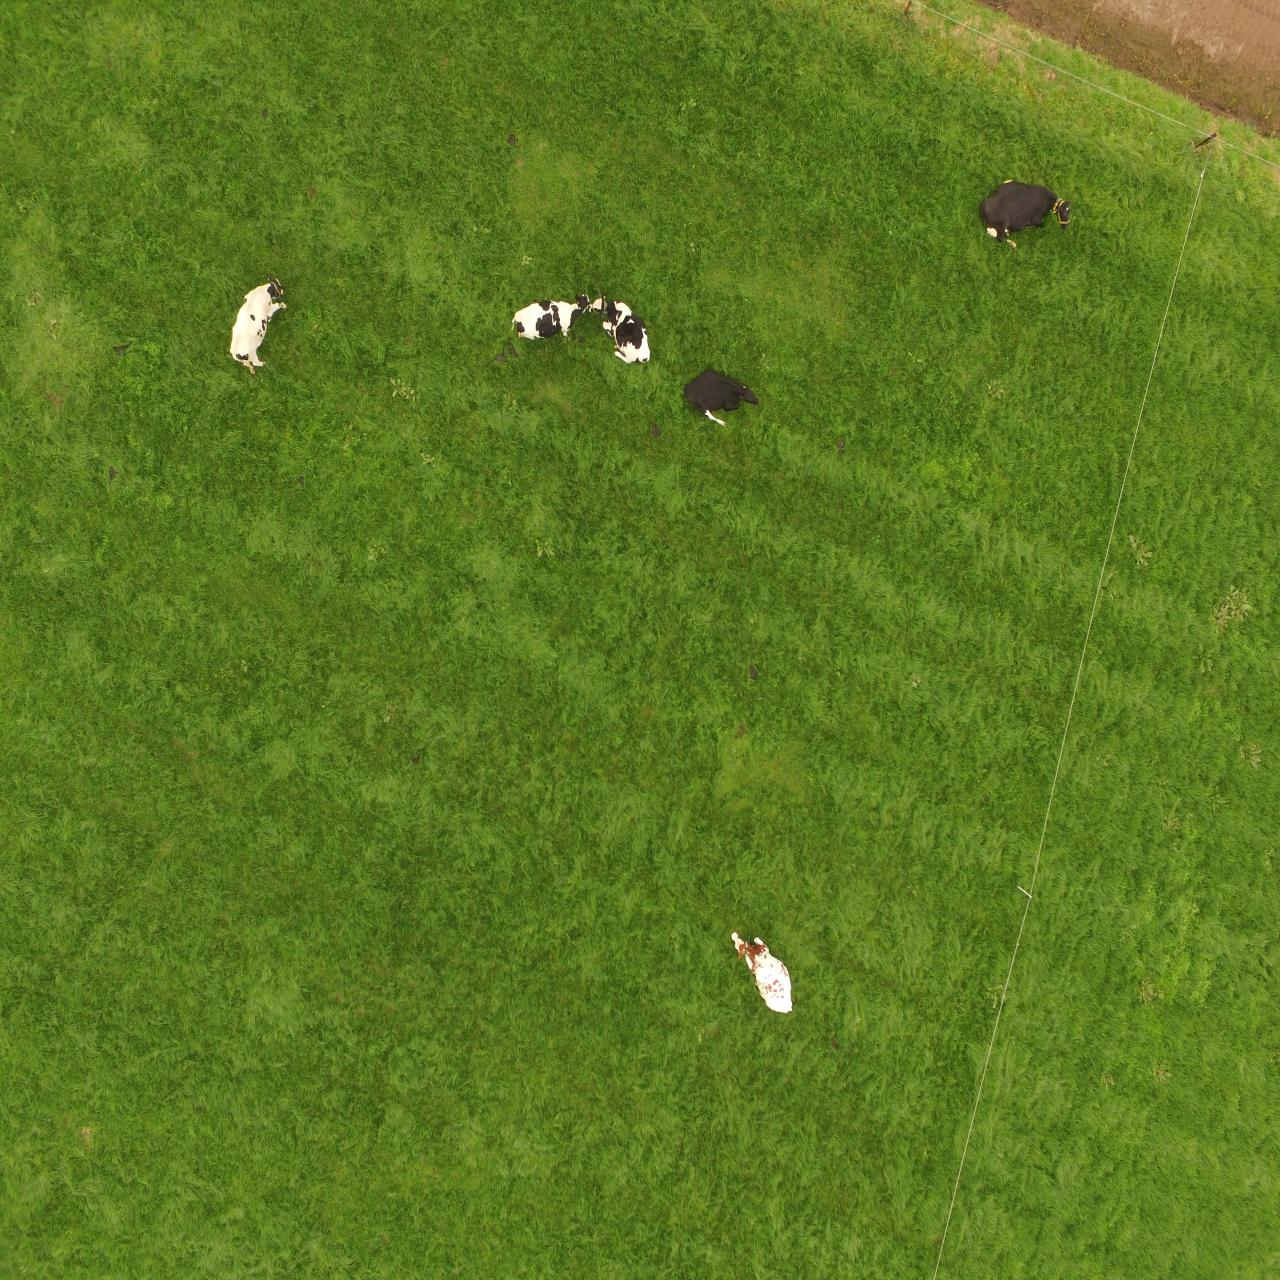cow: (224, 273, 297, 383), (727, 920, 802, 1020), (974, 189, 1076, 251), (685, 375, 765, 434), (592, 293, 653, 369), (505, 290, 588, 345)
